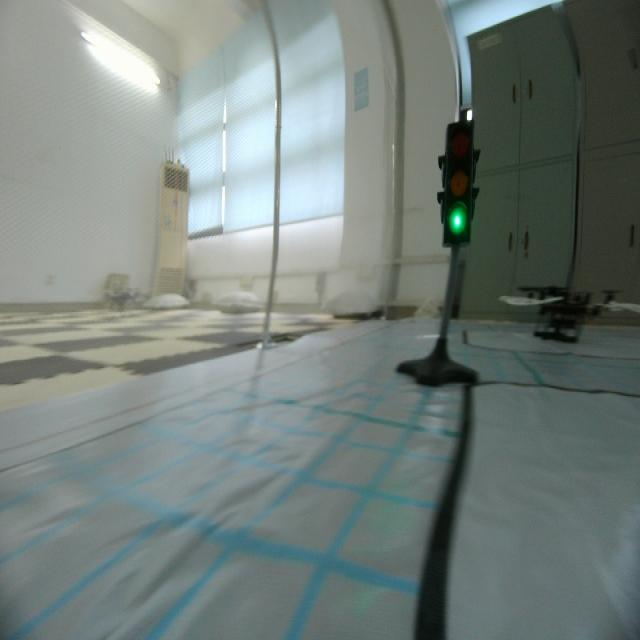green: (436, 115, 480, 257)
